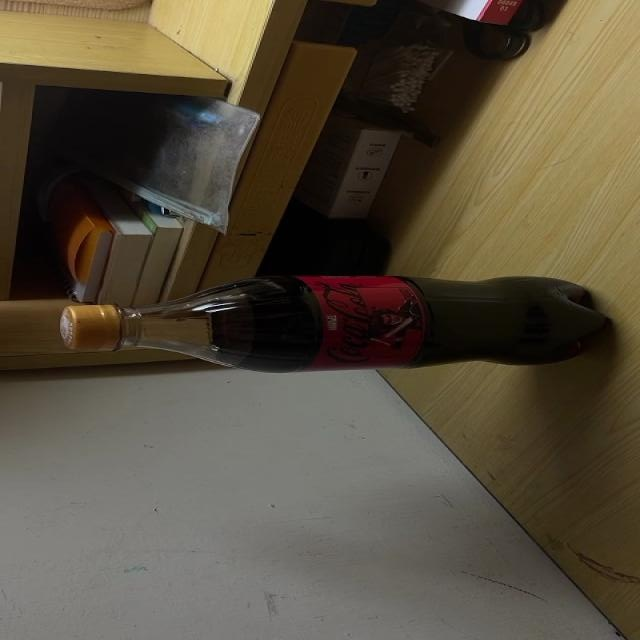Coca-Cola: (58, 275, 615, 376)
